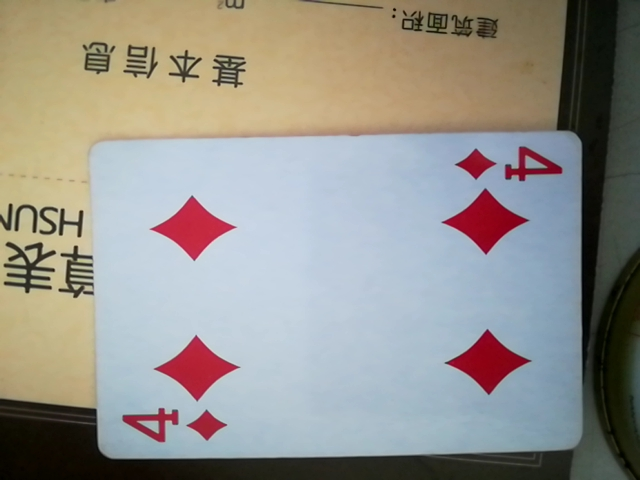fk 4: (89, 130, 585, 465)
